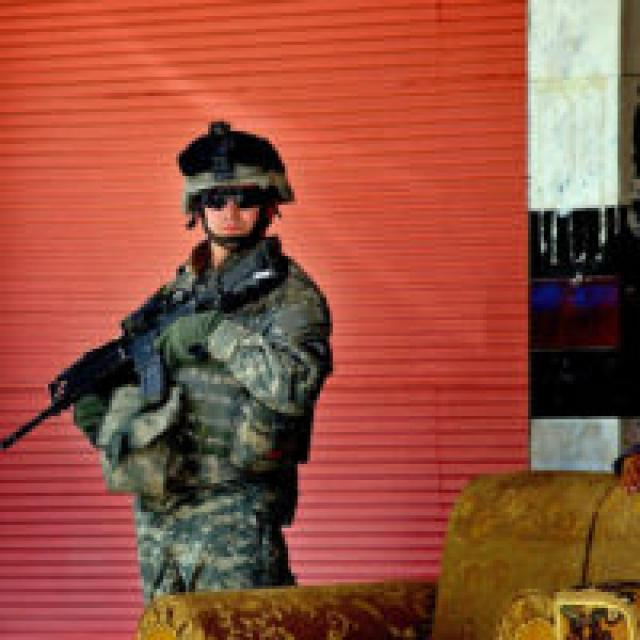m16: (0, 232, 325, 488)
